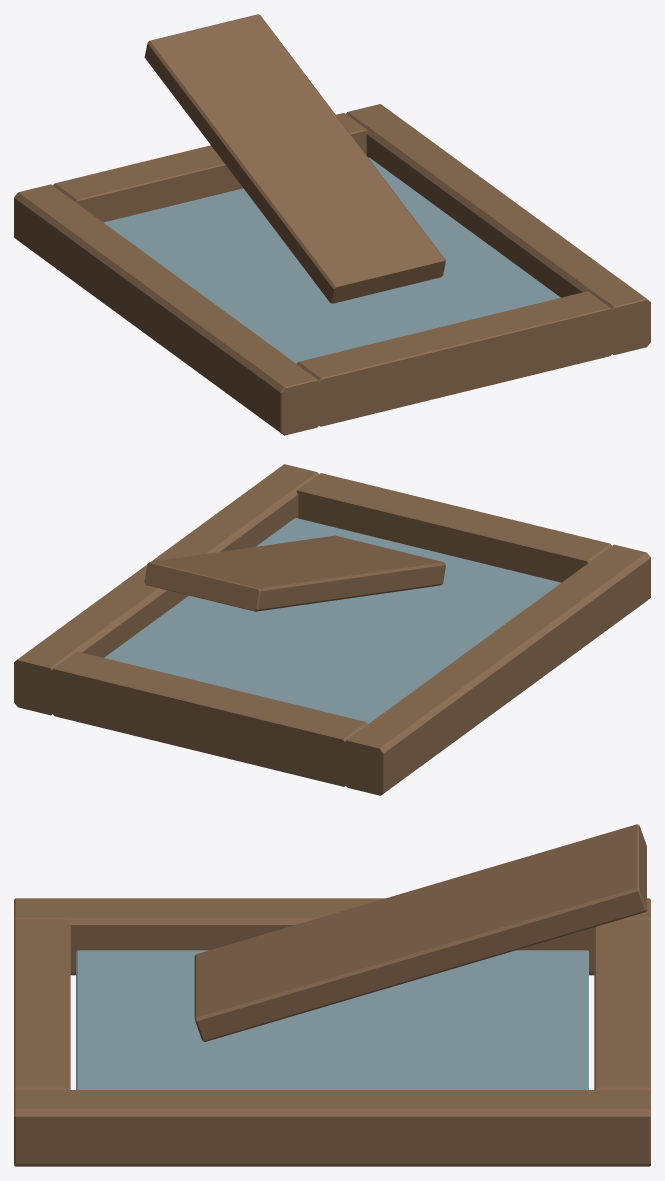
The model's file is photo_frame.glb.
3 views of the same model, one above another, from view 1: azimuth 30°, elevation 25°; view 2: azimuth 150°, elevation 25°; view 3: azimuth 270°, elevation 25° (orthographic). The views are drawn at different scales.
Parts seen in each view (by area): view 1: photo_frame; view 2: photo_frame; view 3: photo_frame.
Boxes of the visible parts, x1=… form: photo_frame: x1=14, y1=14, x2=650, y2=435; photo_frame: x1=14, y1=464, x2=650, y2=795; photo_frame: x1=14, y1=824, x2=650, y2=1166.
Bounding box in the file's own units: 0.144 × 0.0641 × 0.18.
